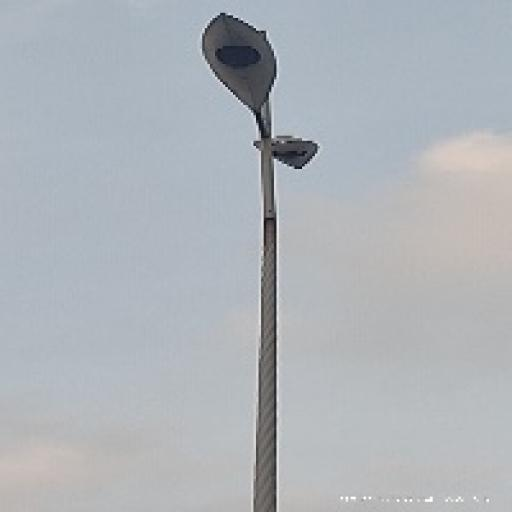Not Working: (188, 8, 286, 119), (248, 124, 323, 188)
